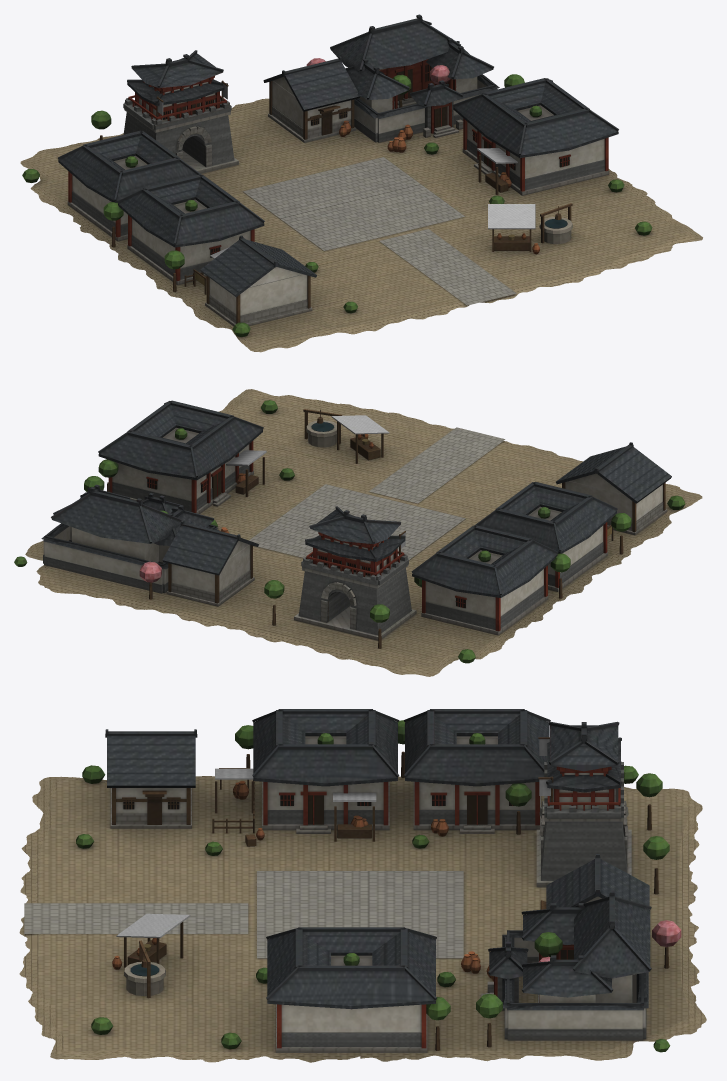
Rendered from classical-town-small-a-sinic.glb.
3 views of the same model, one above another, from view 1: azimuth 30°, elevation 25°; view 2: azimuth 150°, elevation 25°; view 3: azimuth 270°, elevation 25° (orthographic). The views are drawn at different scales.
Visible parts, largest first — view 1: LOD0; view 2: LOD0; view 3: LOD0.
Boxes of the visible parts, box(x1,y1,x2,y2) form: LOD0: box(20, 14, 702, 352); LOD0: box(14, 389, 702, 676); LOD0: box(19, 709, 706, 1062).
Size of what is drawn, in the model's own units: 4.02 by 0.878 by 4.06.
Materials: 3 (3 with a texture image).
